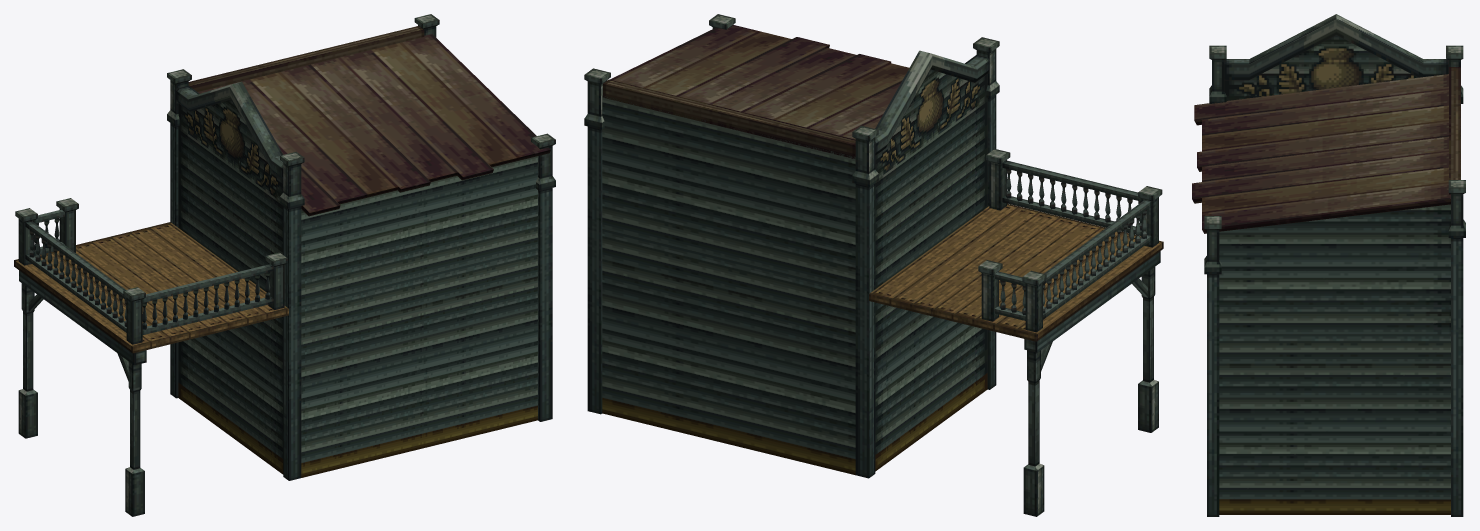
The model's file is EnvBdgMD_Wilderness_A_Outdoor_Shop_Item_A.FBX.
3 renders of one model, left to right at view 1: azimuth 30°, elevation 25°; view 2: azimuth 150°, elevation 25°; view 3: azimuth 270°, elevation 25°, orthographic. The views are drawn at different scales.
Visible parts, largest first — view 1: EnvBdgMD_Wilderness_A_Outdoor_Shop_Item_A; view 2: EnvBdgMD_Wilderness_A_Outdoor_Shop_Item_A; view 3: EnvBdgMD_Wilderness_A_Outdoor_Shop_Item_A.
Part boxes in pixels (<box>): EnvBdgMD_Wilderness_A_Outdoor_Shop_Item_A: <box>14,14,555,516</box>; EnvBdgMD_Wilderness_A_Outdoor_Shop_Item_A: <box>584,14,1163,516</box>; EnvBdgMD_Wilderness_A_Outdoor_Shop_Item_A: <box>1192,14,1465,516</box>.
Size of the model in its own units: 1020 by 820 by 550.
Materials: 1 (1 with a texture image).
